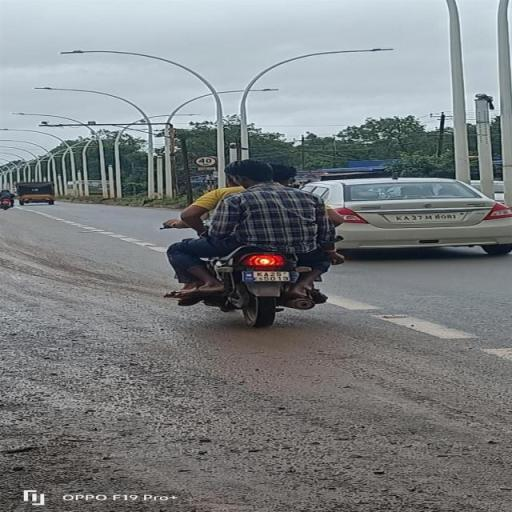tripple riding: (155, 158, 353, 252)
